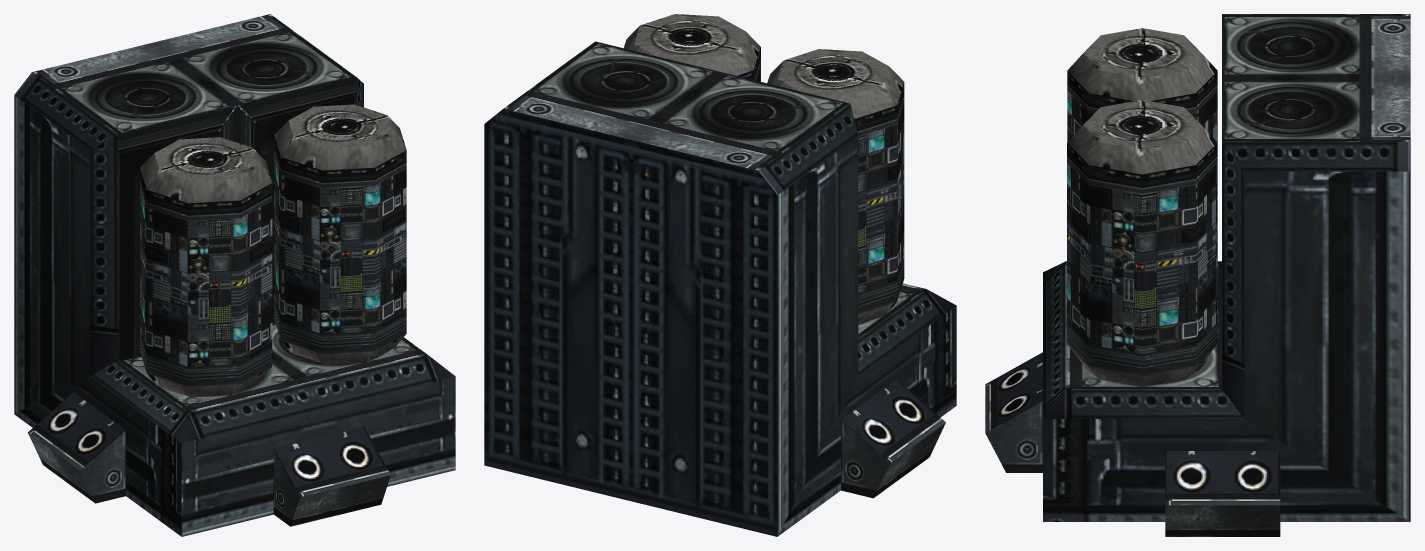
The model's file is Battery_medium_01.FBX.
3 views of the same model, side by side, from view 1: azimuth 30°, elevation 25°; view 2: azimuth 150°, elevation 25°; view 3: azimuth 270°, elevation 25° (orthographic). The views are drawn at different scales.
Parts seen in each view (by area): view 1: Battery_medium_01, Liquid; view 2: Battery_medium_01, Liquid; view 3: Battery_medium_01, Liquid.
Part boxes in pixels (bbox=[...]): Battery_medium_01: bbox=[14, 14, 455, 536]; Liquid: bbox=[140, 154, 406, 366]; Battery_medium_01: bbox=[484, 14, 956, 536]; Liquid: bbox=[756, 66, 904, 292]; Battery_medium_01: bbox=[985, 14, 1410, 536]; Liquid: bbox=[1067, 91, 1217, 353].
Bounding box in the file's own units: 196 × 174 × 182.
